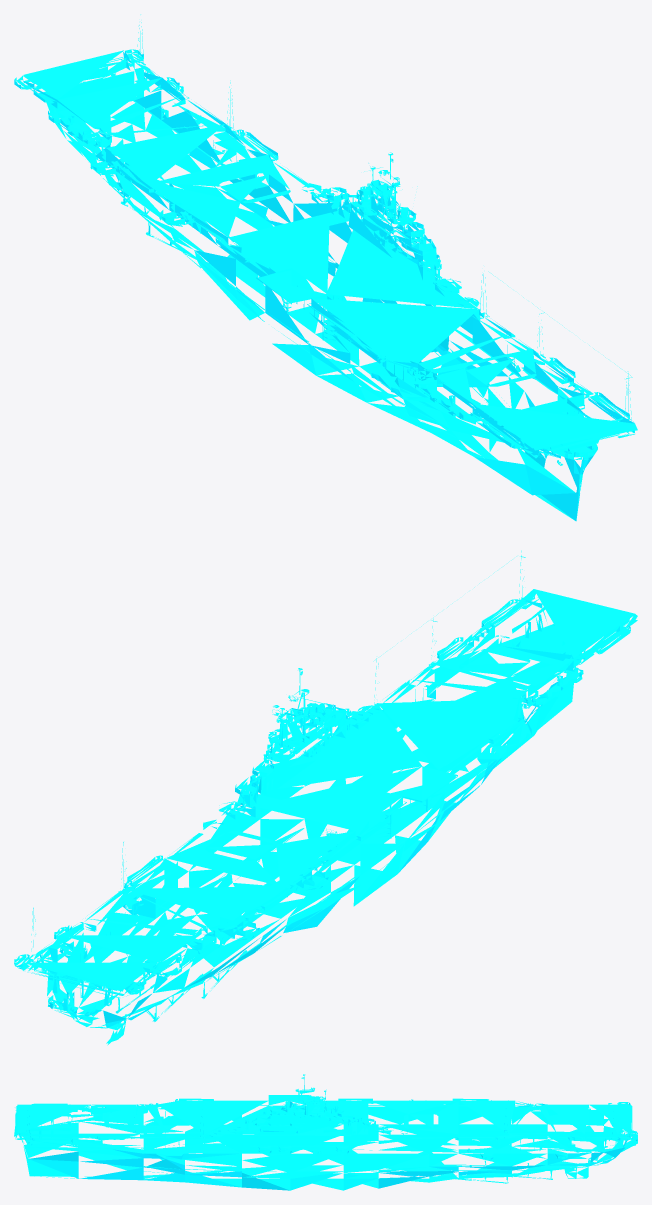
File: Essex.glb
3 renders of one model, top to bottom at view 1: azimuth 30°, elevation 25°; view 2: azimuth 150°, elevation 25°; view 3: azimuth 270°, elevation 25°, orthographic. The views are drawn at different scales.
Bounding box in the file's own units: 3.08 × 3.64 × 17.73.
